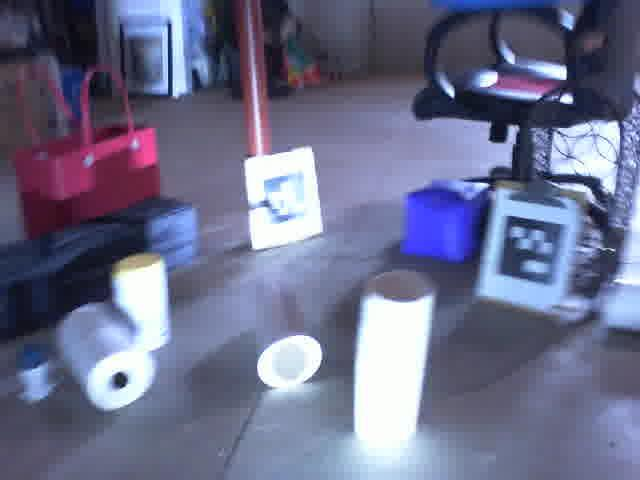coral: (346, 265, 443, 454), (245, 264, 326, 392)
